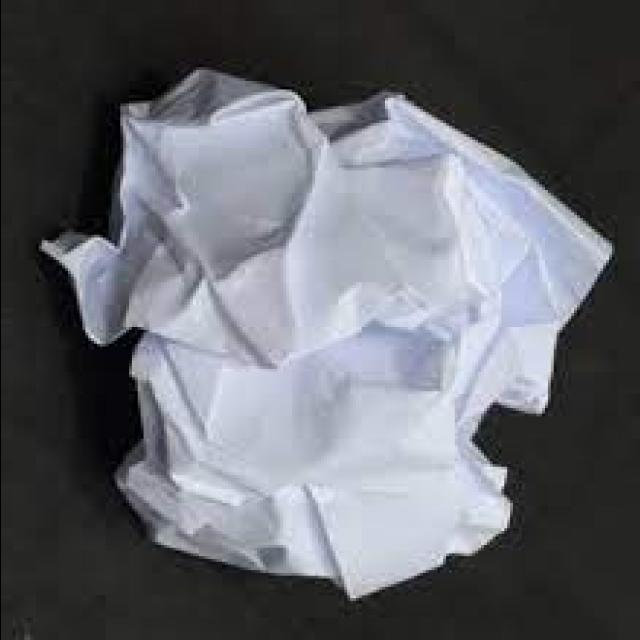crampled paper: (41, 70, 610, 598)
